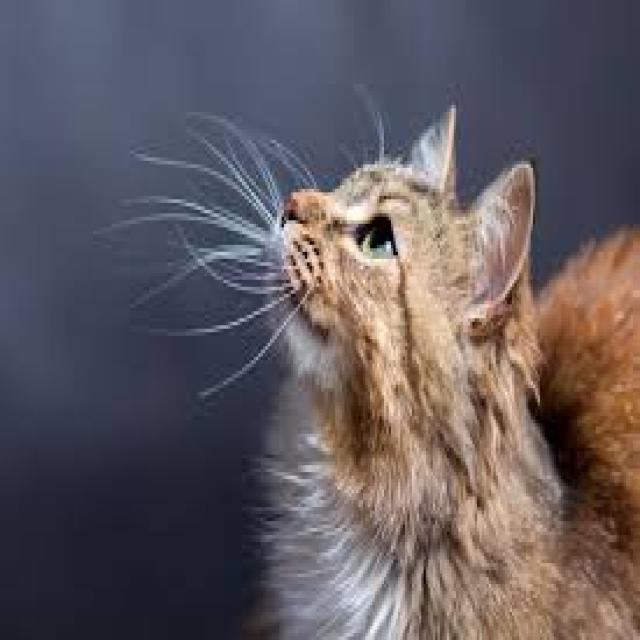cat: (115, 101, 640, 640)
